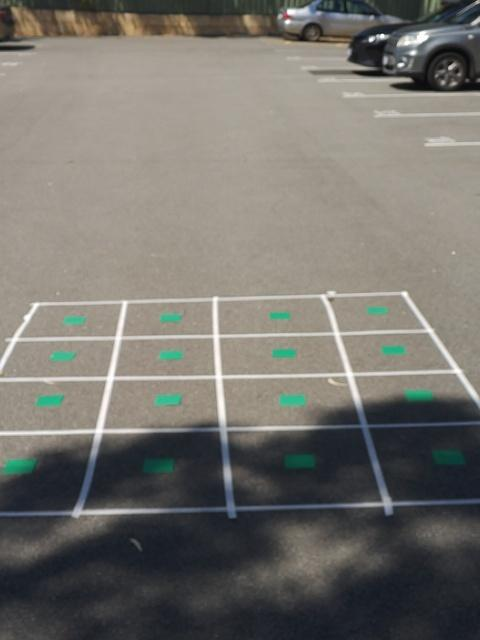weed: (2, 457, 39, 476), (430, 448, 467, 467), (284, 452, 317, 471), (143, 456, 175, 475), (403, 389, 436, 404), (154, 392, 184, 408), (277, 392, 307, 408), (35, 393, 65, 408), (157, 350, 187, 361), (62, 313, 87, 326), (271, 347, 298, 359), (380, 344, 407, 356), (364, 303, 389, 315), (48, 351, 76, 361), (160, 312, 184, 323), (269, 311, 290, 321)
